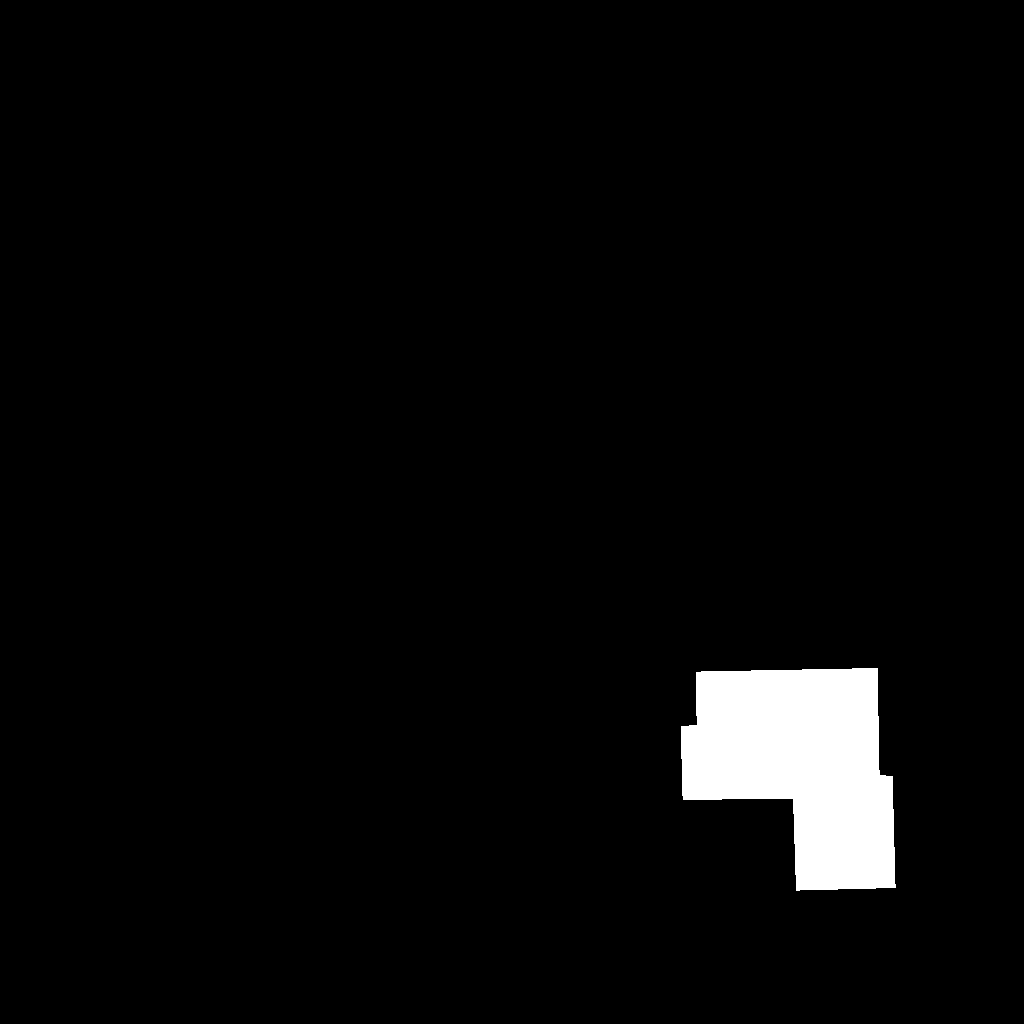building: (681, 668, 896, 891)
